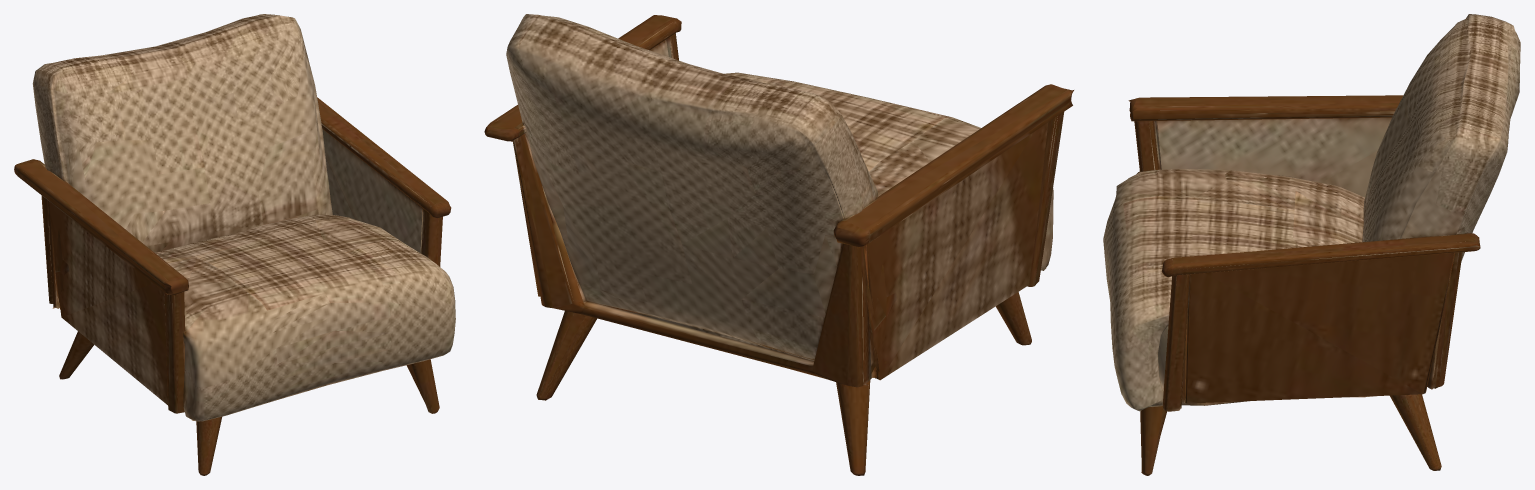
Rendered from armchair_beige__3.glb.
3 renders of one model, left to right at view 1: azimuth 30°, elevation 25°; view 2: azimuth 150°, elevation 25°; view 3: azimuth 270°, elevation 25°, orthographic. The views are drawn at different scales.
Parts seen in each view (by area): view 1: Mesh_0.174; view 2: Mesh_0.174; view 3: Mesh_0.174.
Part boxes in pixels (<box>): Mesh_0.174: <box>14,14,455,475</box>; Mesh_0.174: <box>484,14,1073,475</box>; Mesh_0.174: <box>1103,14,1520,475</box>.
Size of the model in its own units: 0.9011 by 0.86 by 0.9596.
Materials: 1 (1 with a texture image).
